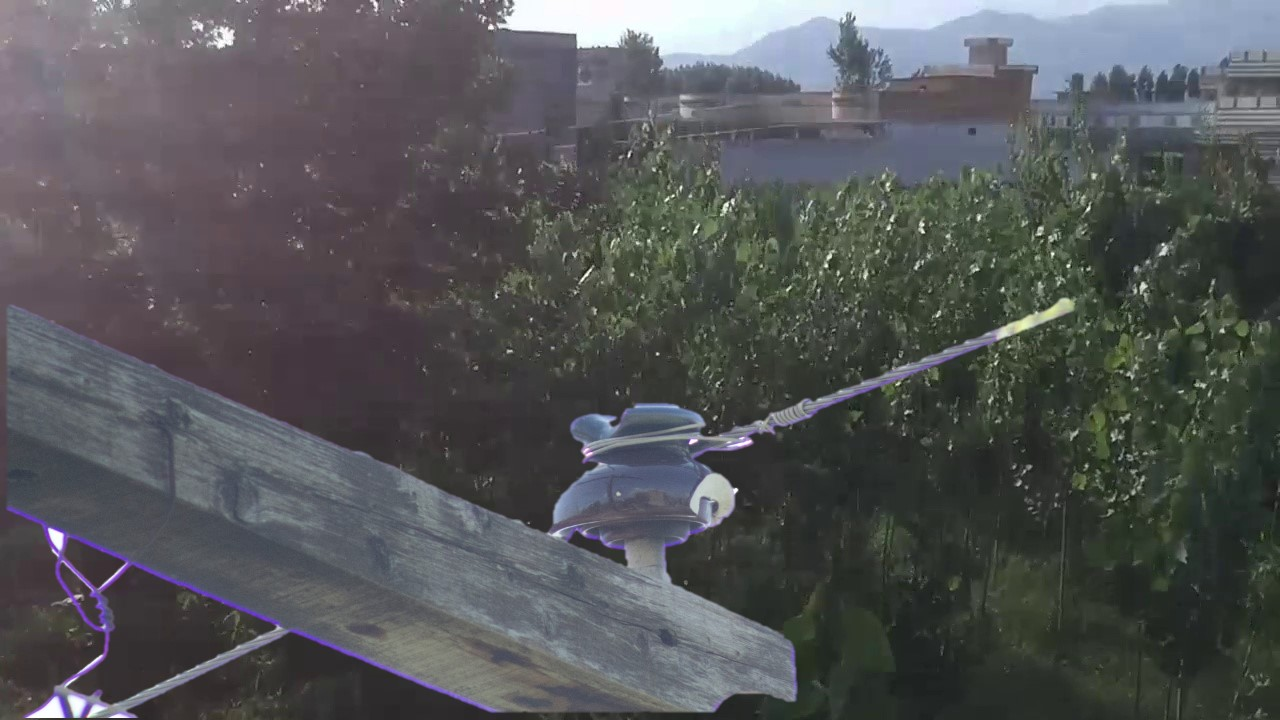defect_pin: (544, 394, 744, 551)
